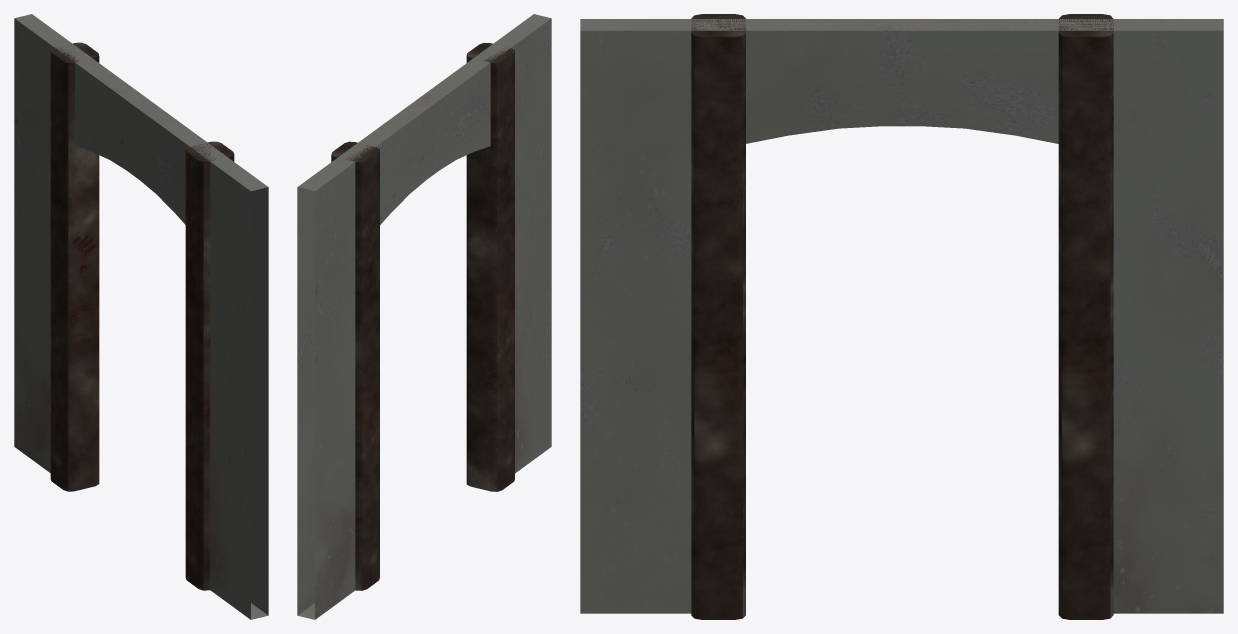
The model's file is Wall_Door.fbx.
3 views of the same model, side by side, from view 1: azimuth 30°, elevation 25°; view 2: azimuth 150°, elevation 25°; view 3: azimuth 270°, elevation 25° (orthographic). The views are drawn at different scales.
Parts seen in each view (by area): view 1: Wall_Door; view 2: Wall_Door; view 3: Wall_Door.
Boxes of the visible parts, x1,y1,x2,y2 form: Wall_Door: (14,14,268,619); Wall_Door: (297,14,551,619); Wall_Door: (580,14,1223,619).
Size of the model in its own units: 17.04 by 200 by 200.
